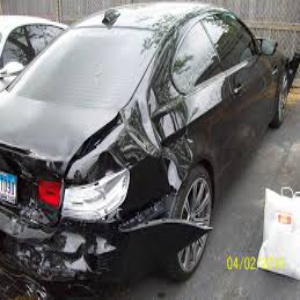bumper: (20, 219, 207, 290)
tail_lights: (28, 169, 134, 216)
